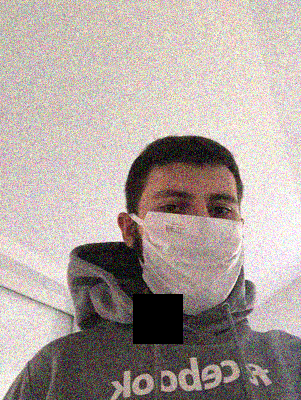with_mask: (136, 182, 243, 316)
